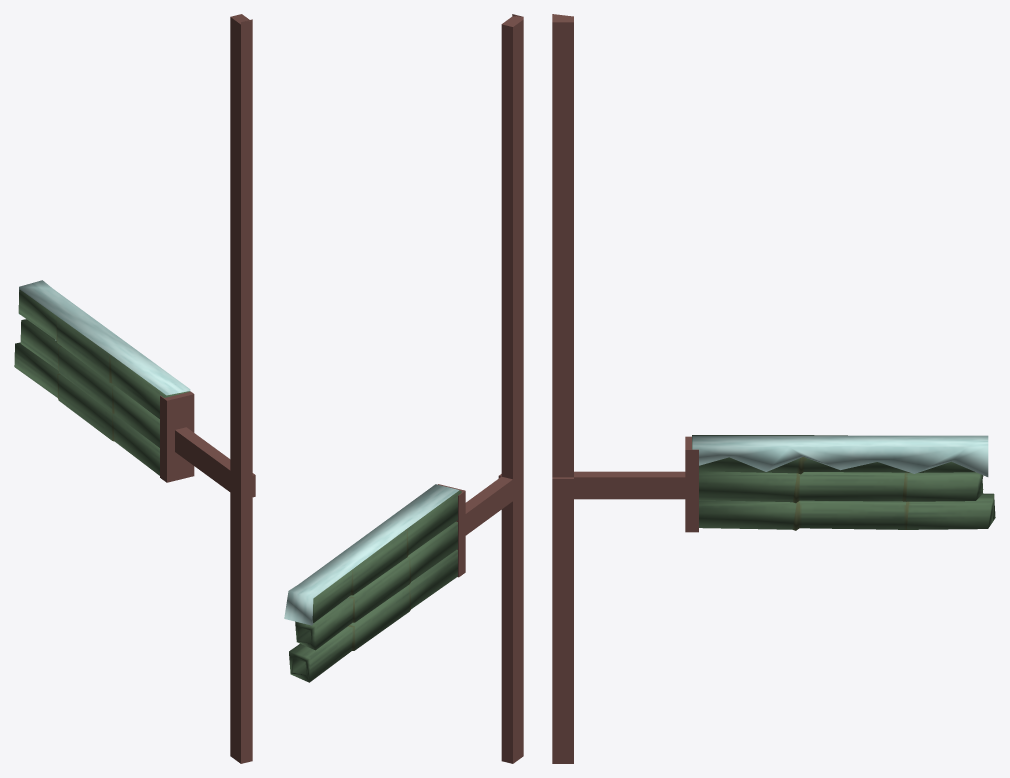
File: bamboo_protectedB_left_3.glb
3 renders of one model, left to right at view 1: azimuth 30°, elevation 25°; view 2: azimuth 150°, elevation 25°; view 3: azimuth 270°, elevation 25°, orthographic.
Parts seen in each view (by area): view 1: Stand.013, Obstacle.010; view 2: Stand.013, Obstacle.010; view 3: Obstacle.010, Stand.013.
Boxes of the visible parts, <box> form: Stand.013: <box>160,14,255,763</box>; Obstacle.010: <box>14,280,190,475</box>; Stand.013: <box>438,14,523,763</box>; Obstacle.010: <box>284,484,461,682</box>; Obstacle.010: <box>692,435,995,530</box>; Stand.013: <box>552,14,698,763</box>.
Size of the model in its own units: 0.2437 by 5.55 by 2.99.
2 materials, 1 textured.
